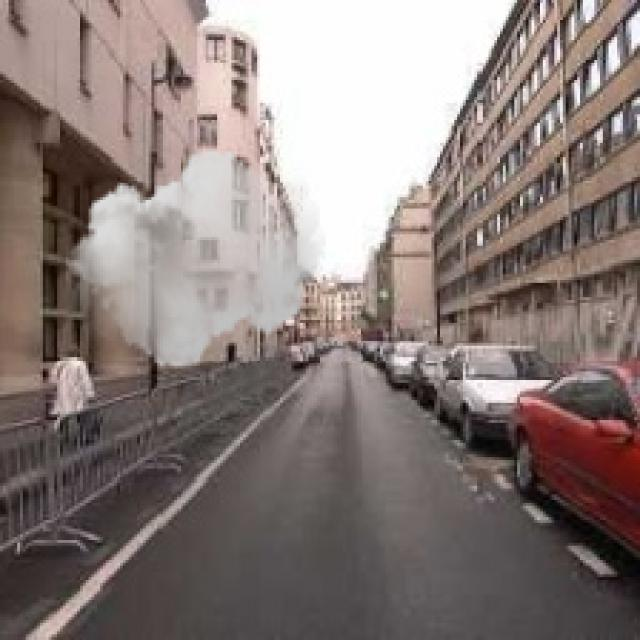smoke: (66, 140, 326, 377)
